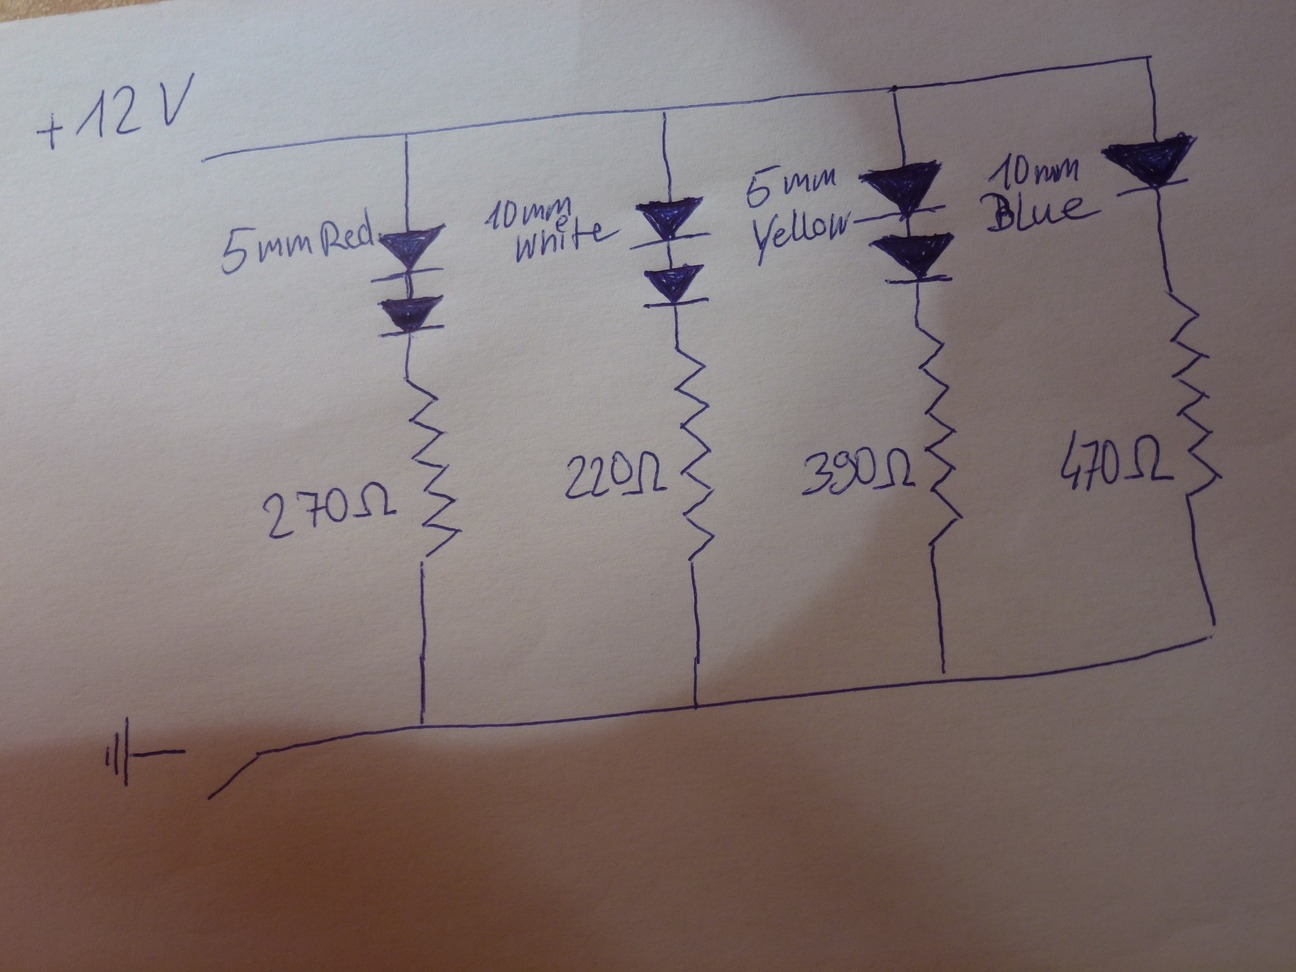diode: (851, 156, 953, 227), (1098, 132, 1202, 200), (864, 231, 965, 290), (625, 191, 716, 254), (368, 218, 450, 286), (640, 261, 711, 311), (373, 293, 448, 340)
gnd: (98, 713, 137, 791)
junction: (1197, 613, 1228, 652), (405, 709, 437, 743), (928, 657, 957, 691), (682, 694, 707, 717), (1136, 48, 1159, 67), (655, 101, 676, 120), (885, 80, 903, 98), (397, 127, 413, 143)
resistor: (1165, 281, 1227, 506), (402, 369, 464, 573), (914, 320, 965, 550), (671, 345, 719, 565)
switch: (169, 739, 271, 803)
terminal: (192, 149, 218, 171)
text: (33, 70, 199, 152), (218, 205, 376, 279), (254, 480, 393, 542), (1057, 425, 1177, 494), (798, 440, 918, 499), (750, 207, 853, 270), (561, 447, 669, 503), (978, 190, 1103, 236), (513, 213, 622, 265), (743, 158, 843, 212), (985, 149, 1082, 192), (481, 191, 575, 233)
